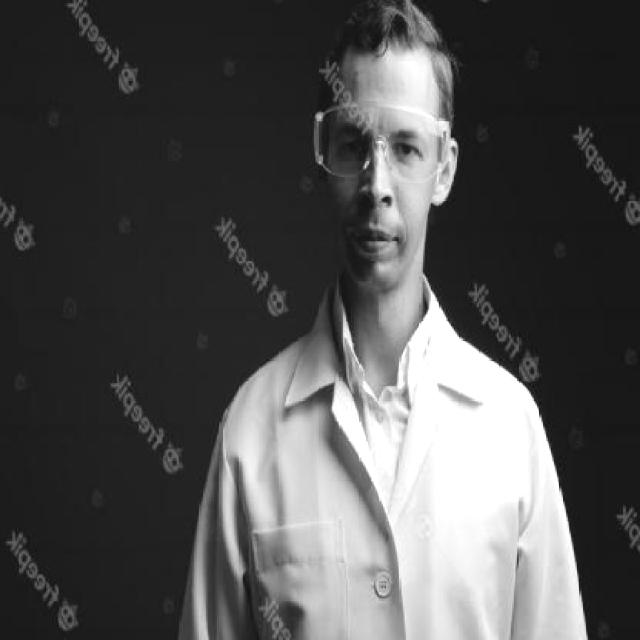face_nomask: (322, 113, 441, 265)
glasses: (314, 97, 451, 181)
head_nohelmet: (329, 0, 456, 89)
person: (184, 9, 565, 640)
